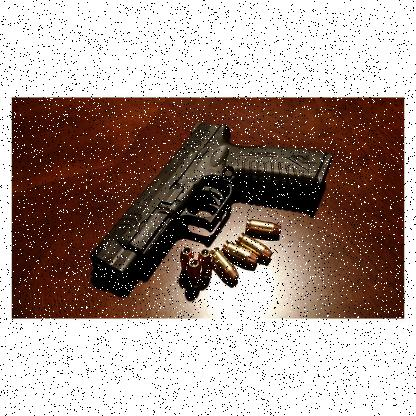gun: (85, 119, 335, 286)
